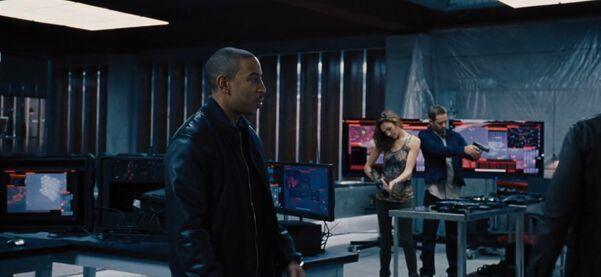Gun: (474, 140, 491, 154)
